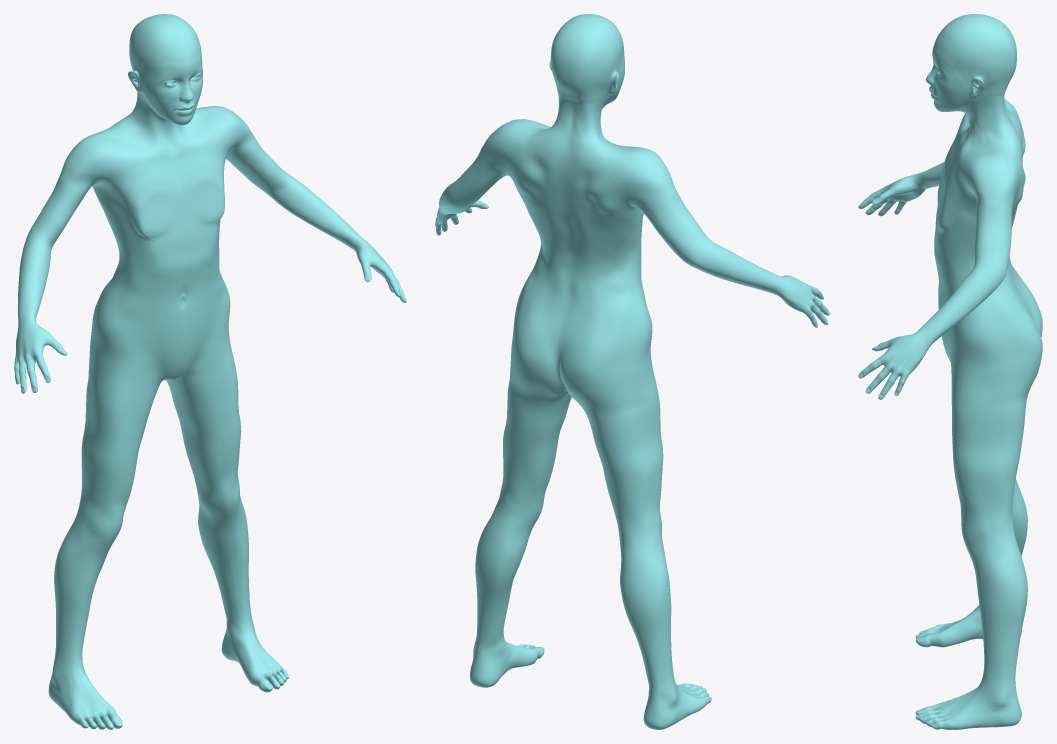
The model's file is body-atlas-3d-v2.glb.
3 renders of one model, left to right at view 1: azimuth 30°, elevation 25°; view 2: azimuth 150°, elevation 25°; view 3: azimuth 270°, elevation 25°, orthographic.
Parts seen in each view (by area): view 1: NeutralClinicalHumanV2; view 2: NeutralClinicalHumanV2; view 3: NeutralClinicalHumanV2.
Boxes of the visible parts, x1,y1,x2,y2 form: NeutralClinicalHumanV2: (14,14,406,729); NeutralClinicalHumanV2: (435,14,829,729); NeutralClinicalHumanV2: (858,14,1042,729).
Bounding box in the file's own units: 1.07 × 1.8 × 0.4531.
